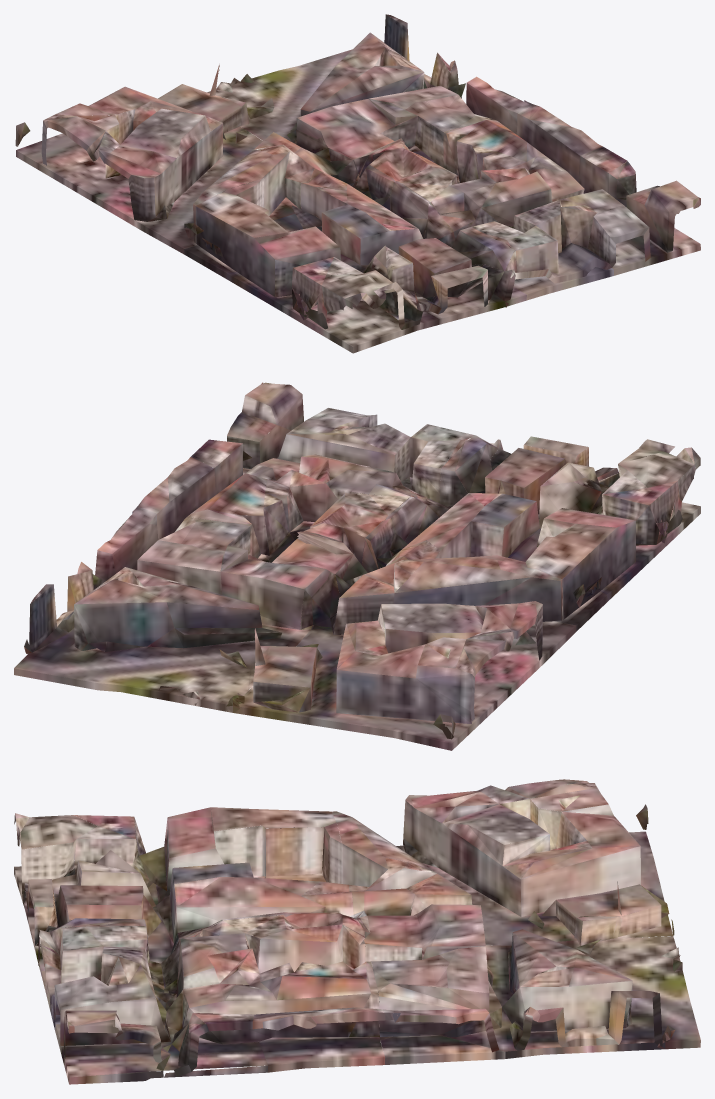
3 views of the same model, one above another, from view 1: azimuth 30°, elevation 25°; view 2: azimuth 150°, elevation 25°; view 3: azimuth 270°, elevation 25° (orthographic). The views are drawn at different scales.
Parts seen in each view (by area): view 1: Mesh_0; view 2: Mesh_0; view 3: Mesh_0.
Boxes of the visible parts, x1=… form: Mesh_0: x1=15, y1=14, x2=700, y2=353; Mesh_0: x1=14, y1=382, x2=700, y2=750; Mesh_0: x1=14, y1=779, x2=700, y2=1084.
Bounding box in the file's own units: 267 × 42.18 × 330.
2 materials, 2 textured.
